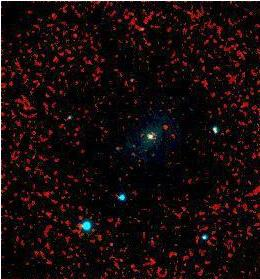star: (98, 132, 128, 162)
